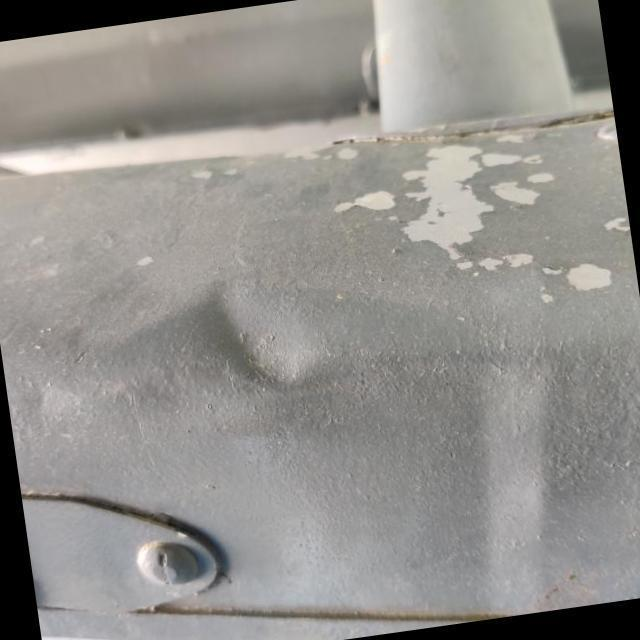dent: (198, 272, 336, 396)
